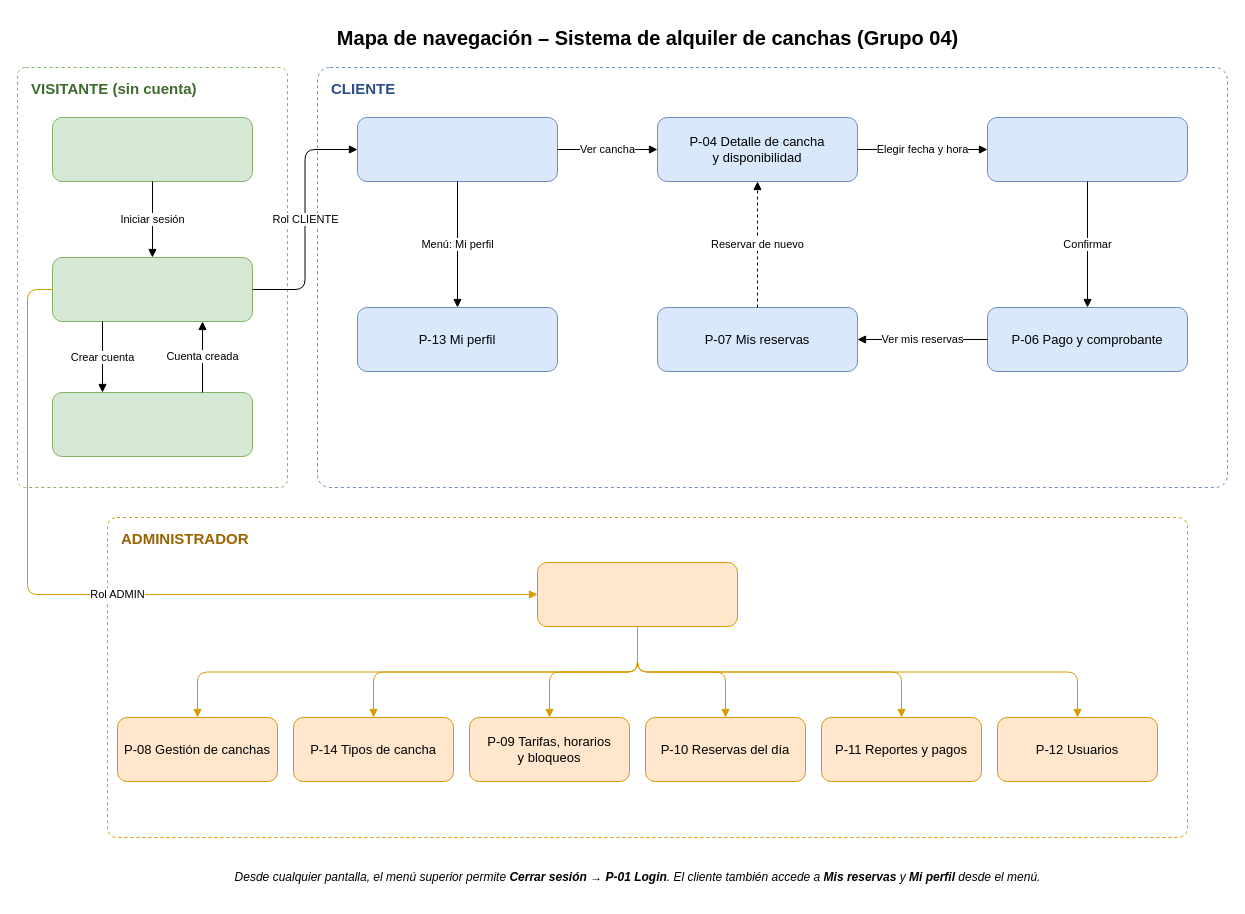
The diagram is 1245 pixels wide and 914 high, and some of its shapes have lost their labels. Each missing label, with the centre of its shape:
"Menú del administrador" belongs at point (637, 594).
"P-01 Login" belongs at point (152, 289).
"P-02 Registro" belongs at point (152, 424).
"P-03 Catálogo de canchas" belongs at point (457, 149).
"P-03 Catálogo de canchas (público)" belongs at point (152, 149).
"P-05 Confirmar reserva" belongs at point (1087, 149).
